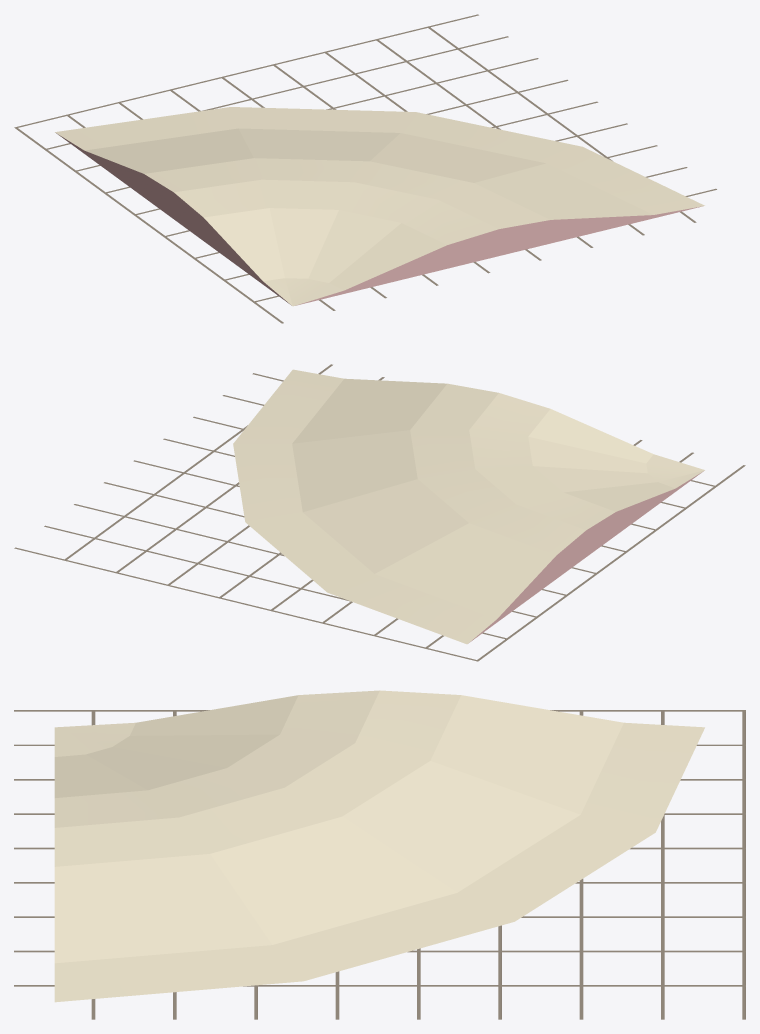
File: Terrain_Sand_Incline_Curve_Both_8x8.glb
The picture shows the model from 3 angles, top to bottom: view 1: azimuth 30°, elevation 25°; view 2: azimuth 150°, elevation 25°; view 3: azimuth 270°, elevation 25°; orthographic projection. The views are drawn at different scales.
Visible parts, largest first — view 1: Terrain_Sand_Incline_Curve_Both_8x8, Floor; view 2: Terrain_Sand_Incline_Curve_Both_8x8, Floor; view 3: Terrain_Sand_Incline_Curve_Both_8x8, Floor.
Boxes of the visible parts, x1,y1,x2,y2 form: Terrain_Sand_Incline_Curve_Both_8x8: [55, 107, 704, 306]; Floor: [14, 14, 716, 323]; Terrain_Sand_Incline_Curve_Both_8x8: [233, 369, 704, 644]; Floor: [14, 364, 745, 661]; Terrain_Sand_Incline_Curve_Both_8x8: [54, 690, 704, 1002]; Floor: [14, 710, 745, 1019].
Bounding box in the file's own units: 900 × 50 × 900.
Materials: 4 (1 with a texture image).
